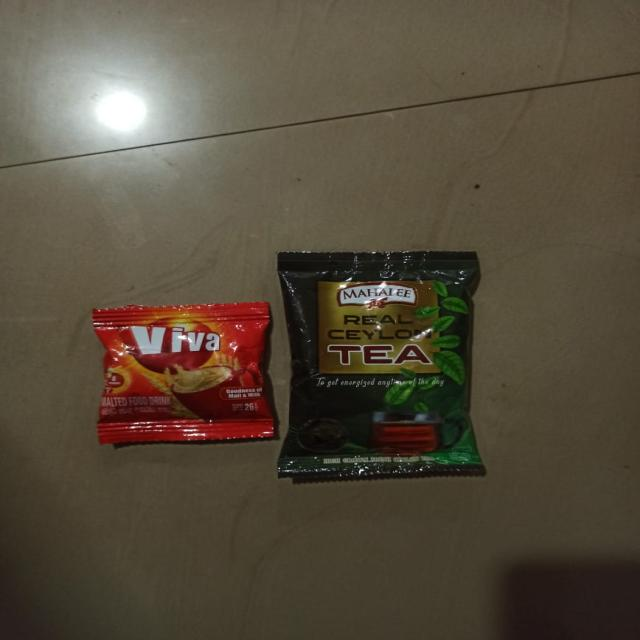Ceryloan TEA: (256, 251, 494, 495)
Viva Malt: (92, 303, 266, 447)
